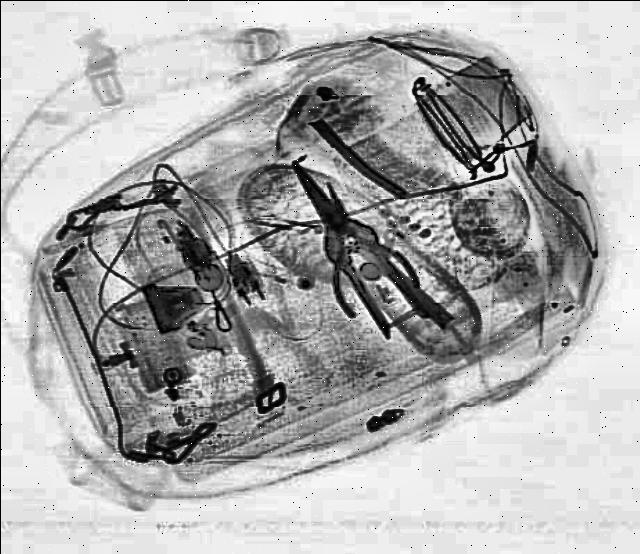Pliers: (278, 172, 422, 320)
